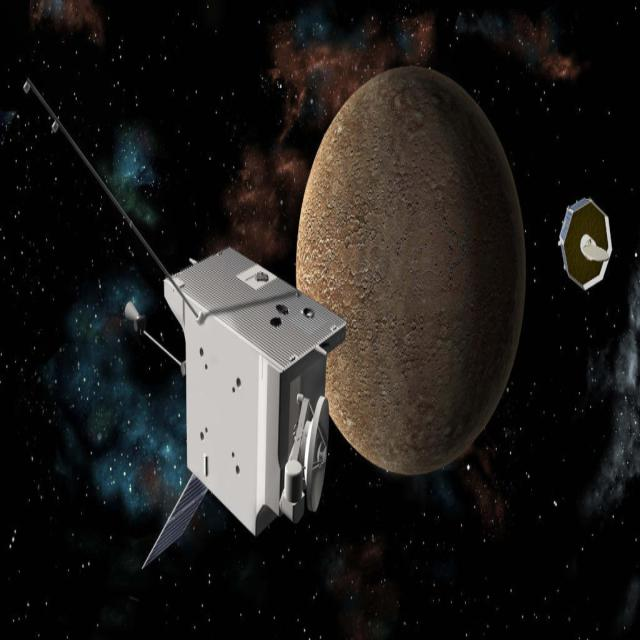medium_debris: (125, 215, 358, 565), (549, 182, 617, 302)
